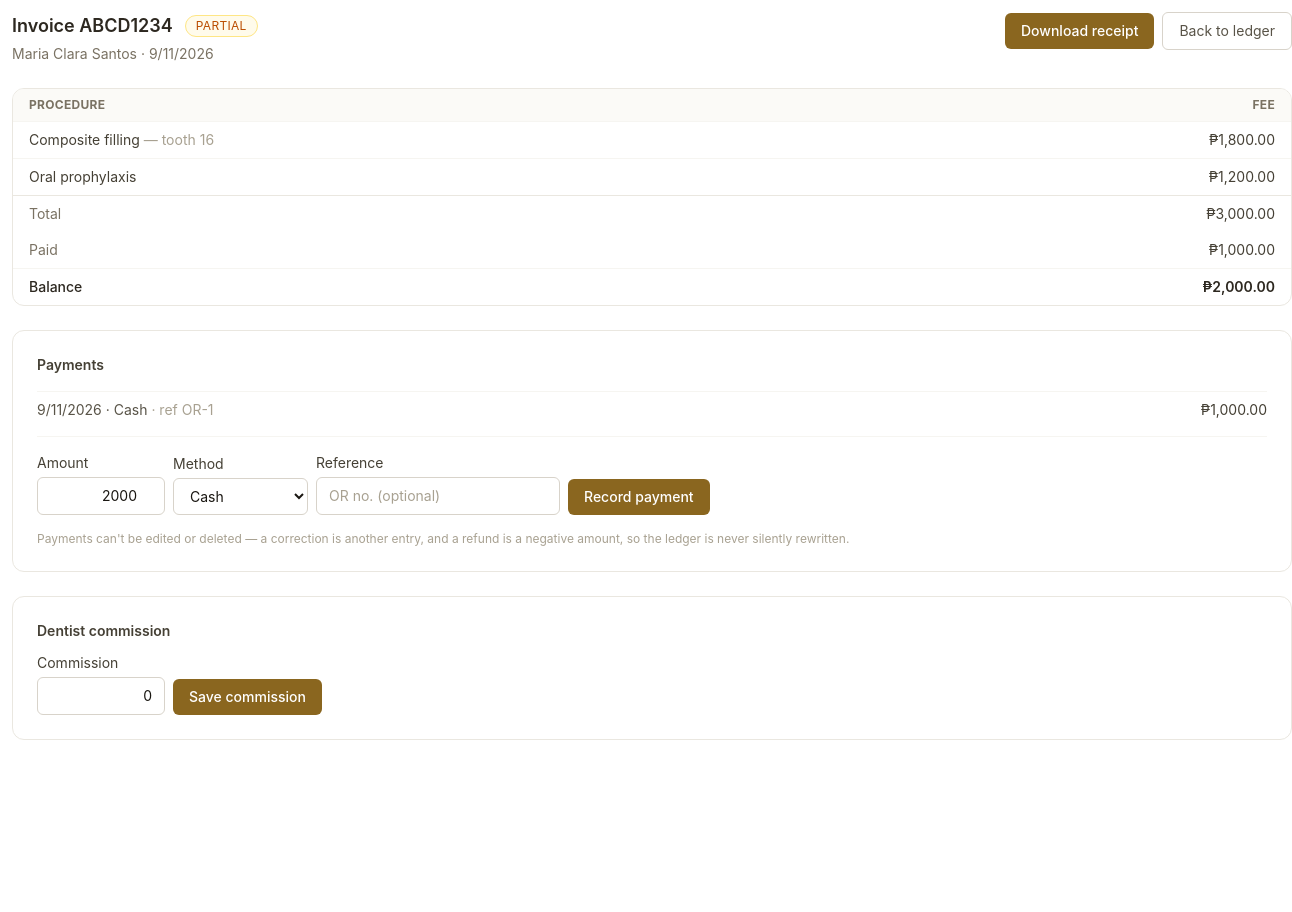
Test: InvoiceDetailPage › settling the bill › says the payment went through when only the checkout fails
Expected: the text "Composite filling — tooth 16" is shown, [13,122,876,158]
Click the button "Record payment" at (639, 497), box [568,479,710,515]
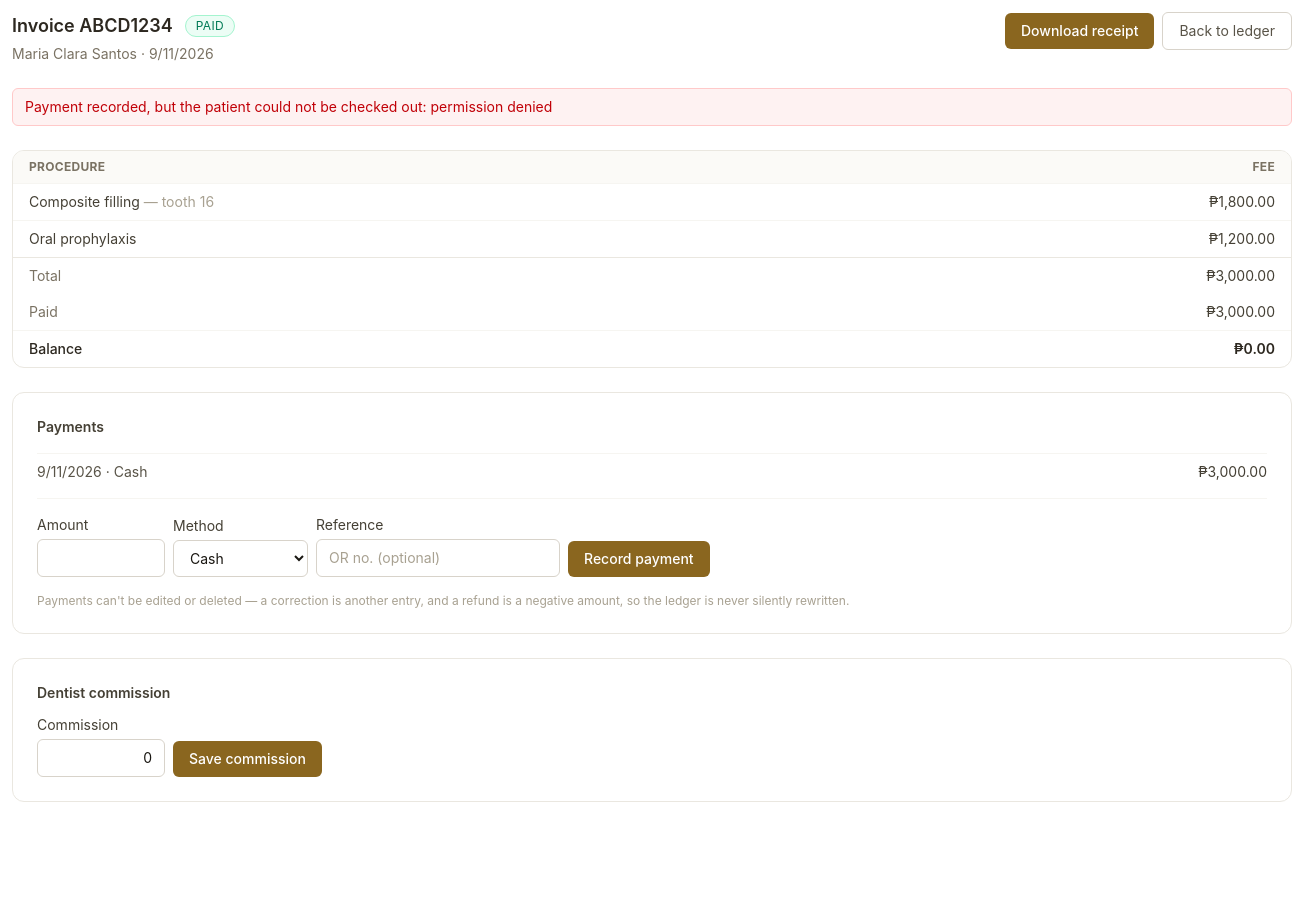
Expected: the text "Payment recorded, but the patient could not be checked out" is shown, [25,98,552,115]
